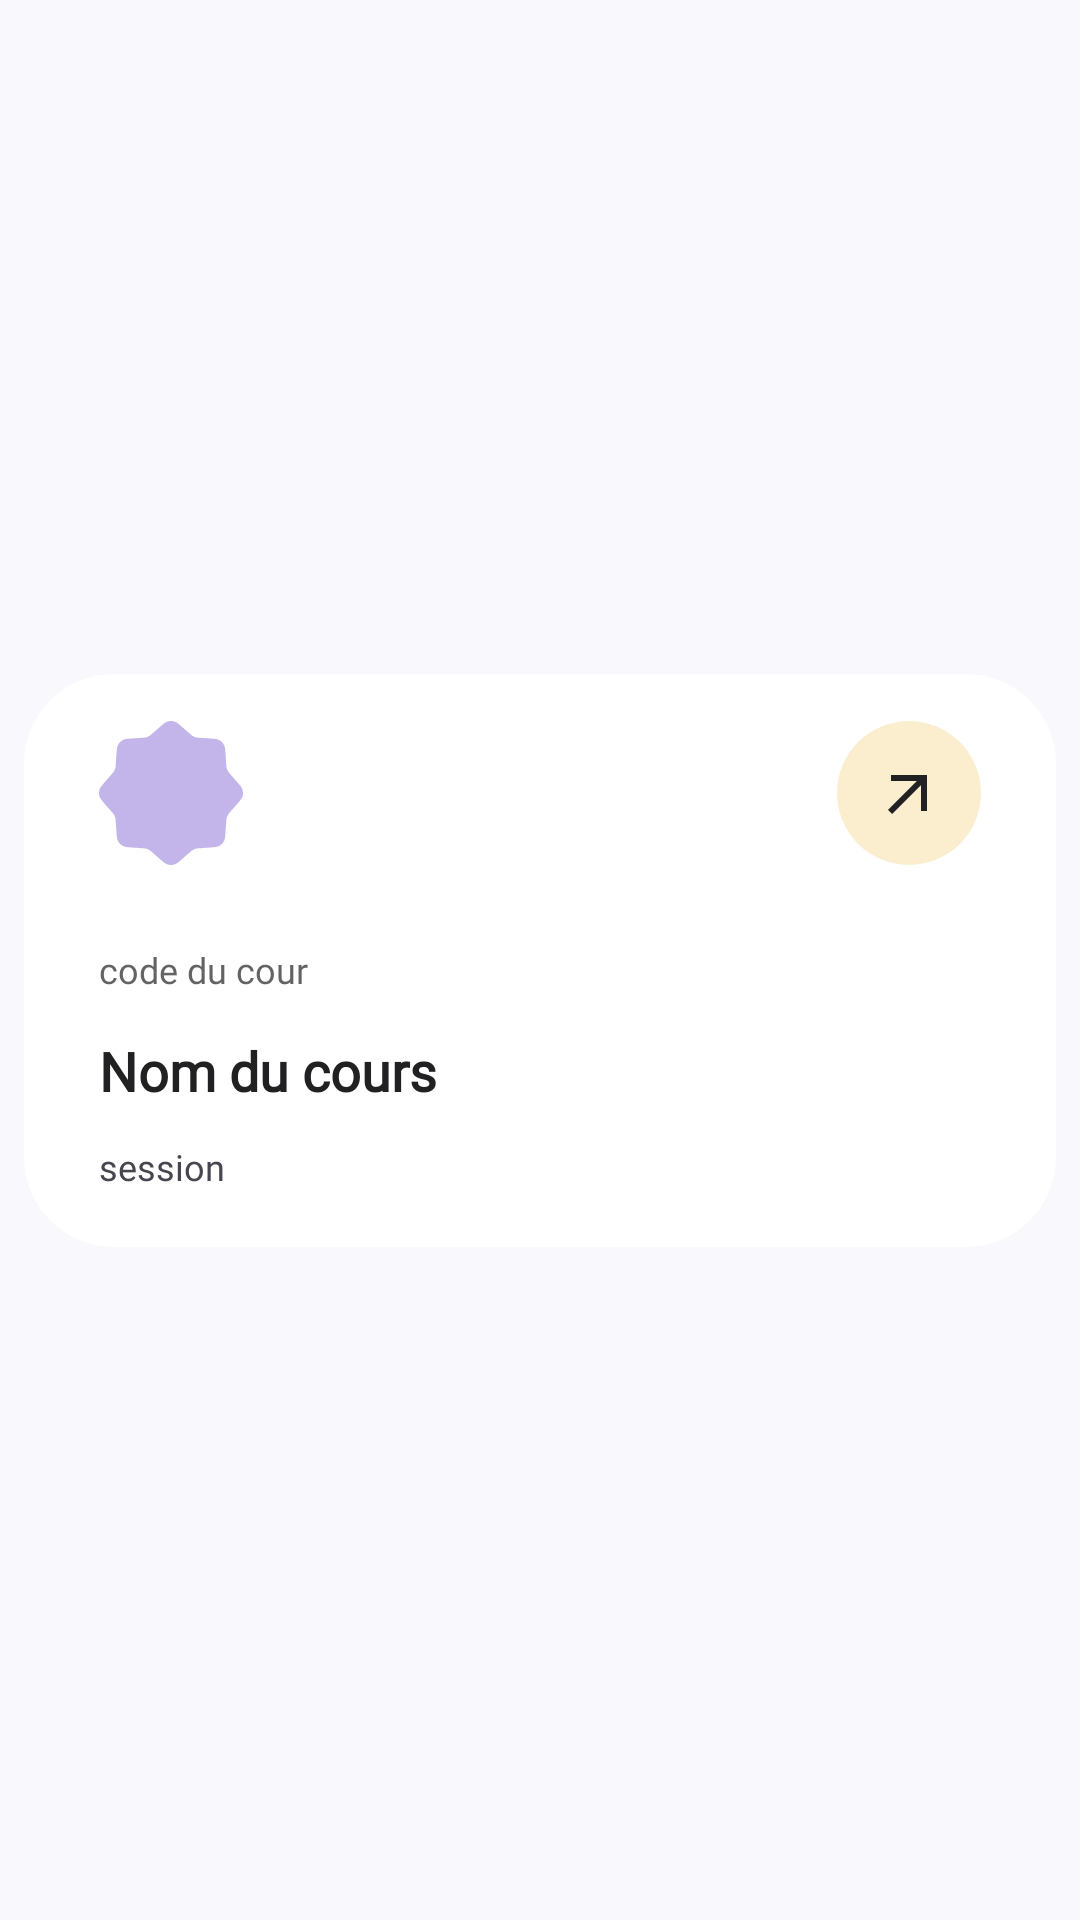

Screen size 1080×1920. Icon name, then its center in pixels as (x,y):
Voir les détails du cours: (909,793)
